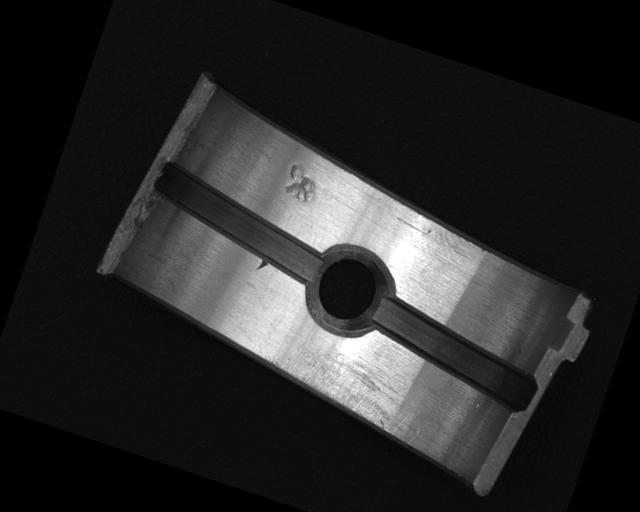bruise: (279, 160, 325, 206), (253, 257, 270, 275)
gap: (137, 160, 336, 286), (359, 291, 550, 414)
hole: (296, 237, 402, 344)
scratch: (261, 323, 439, 449)
